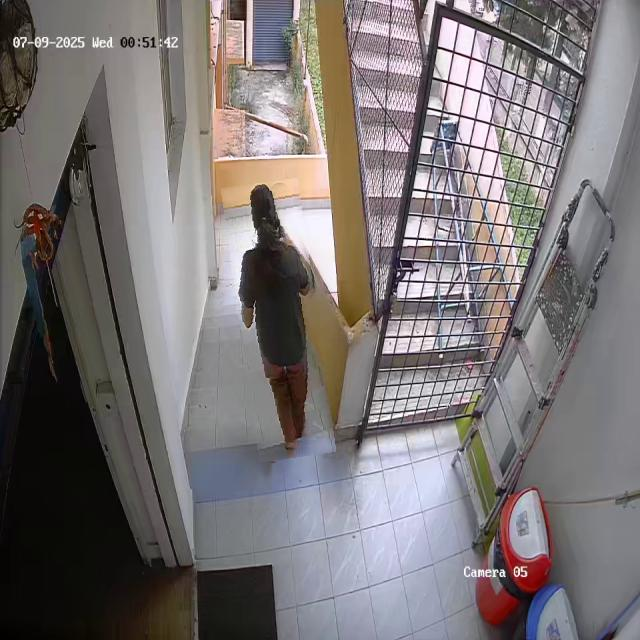person: (231, 179, 327, 460)
